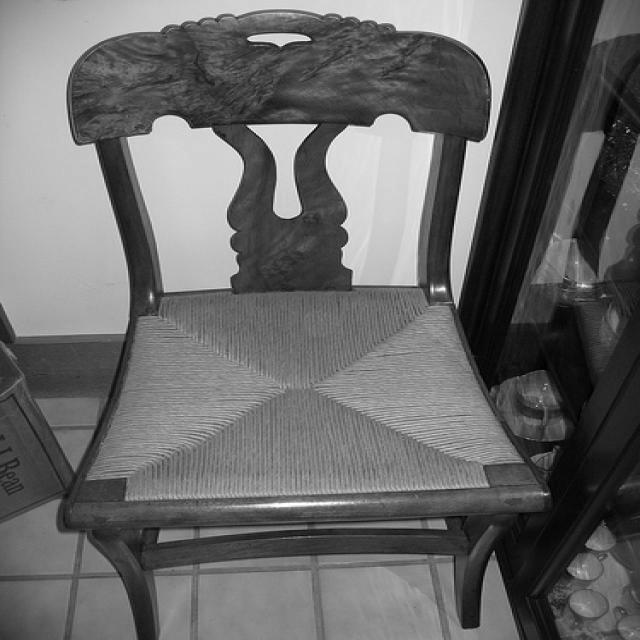chair: (58, 6, 552, 639)
